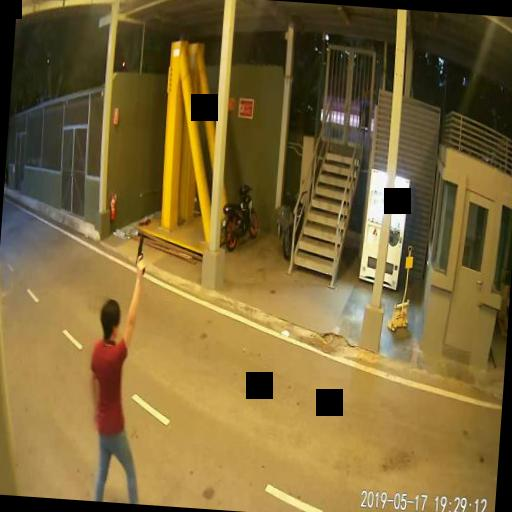Handgun: (134, 232, 146, 274)
